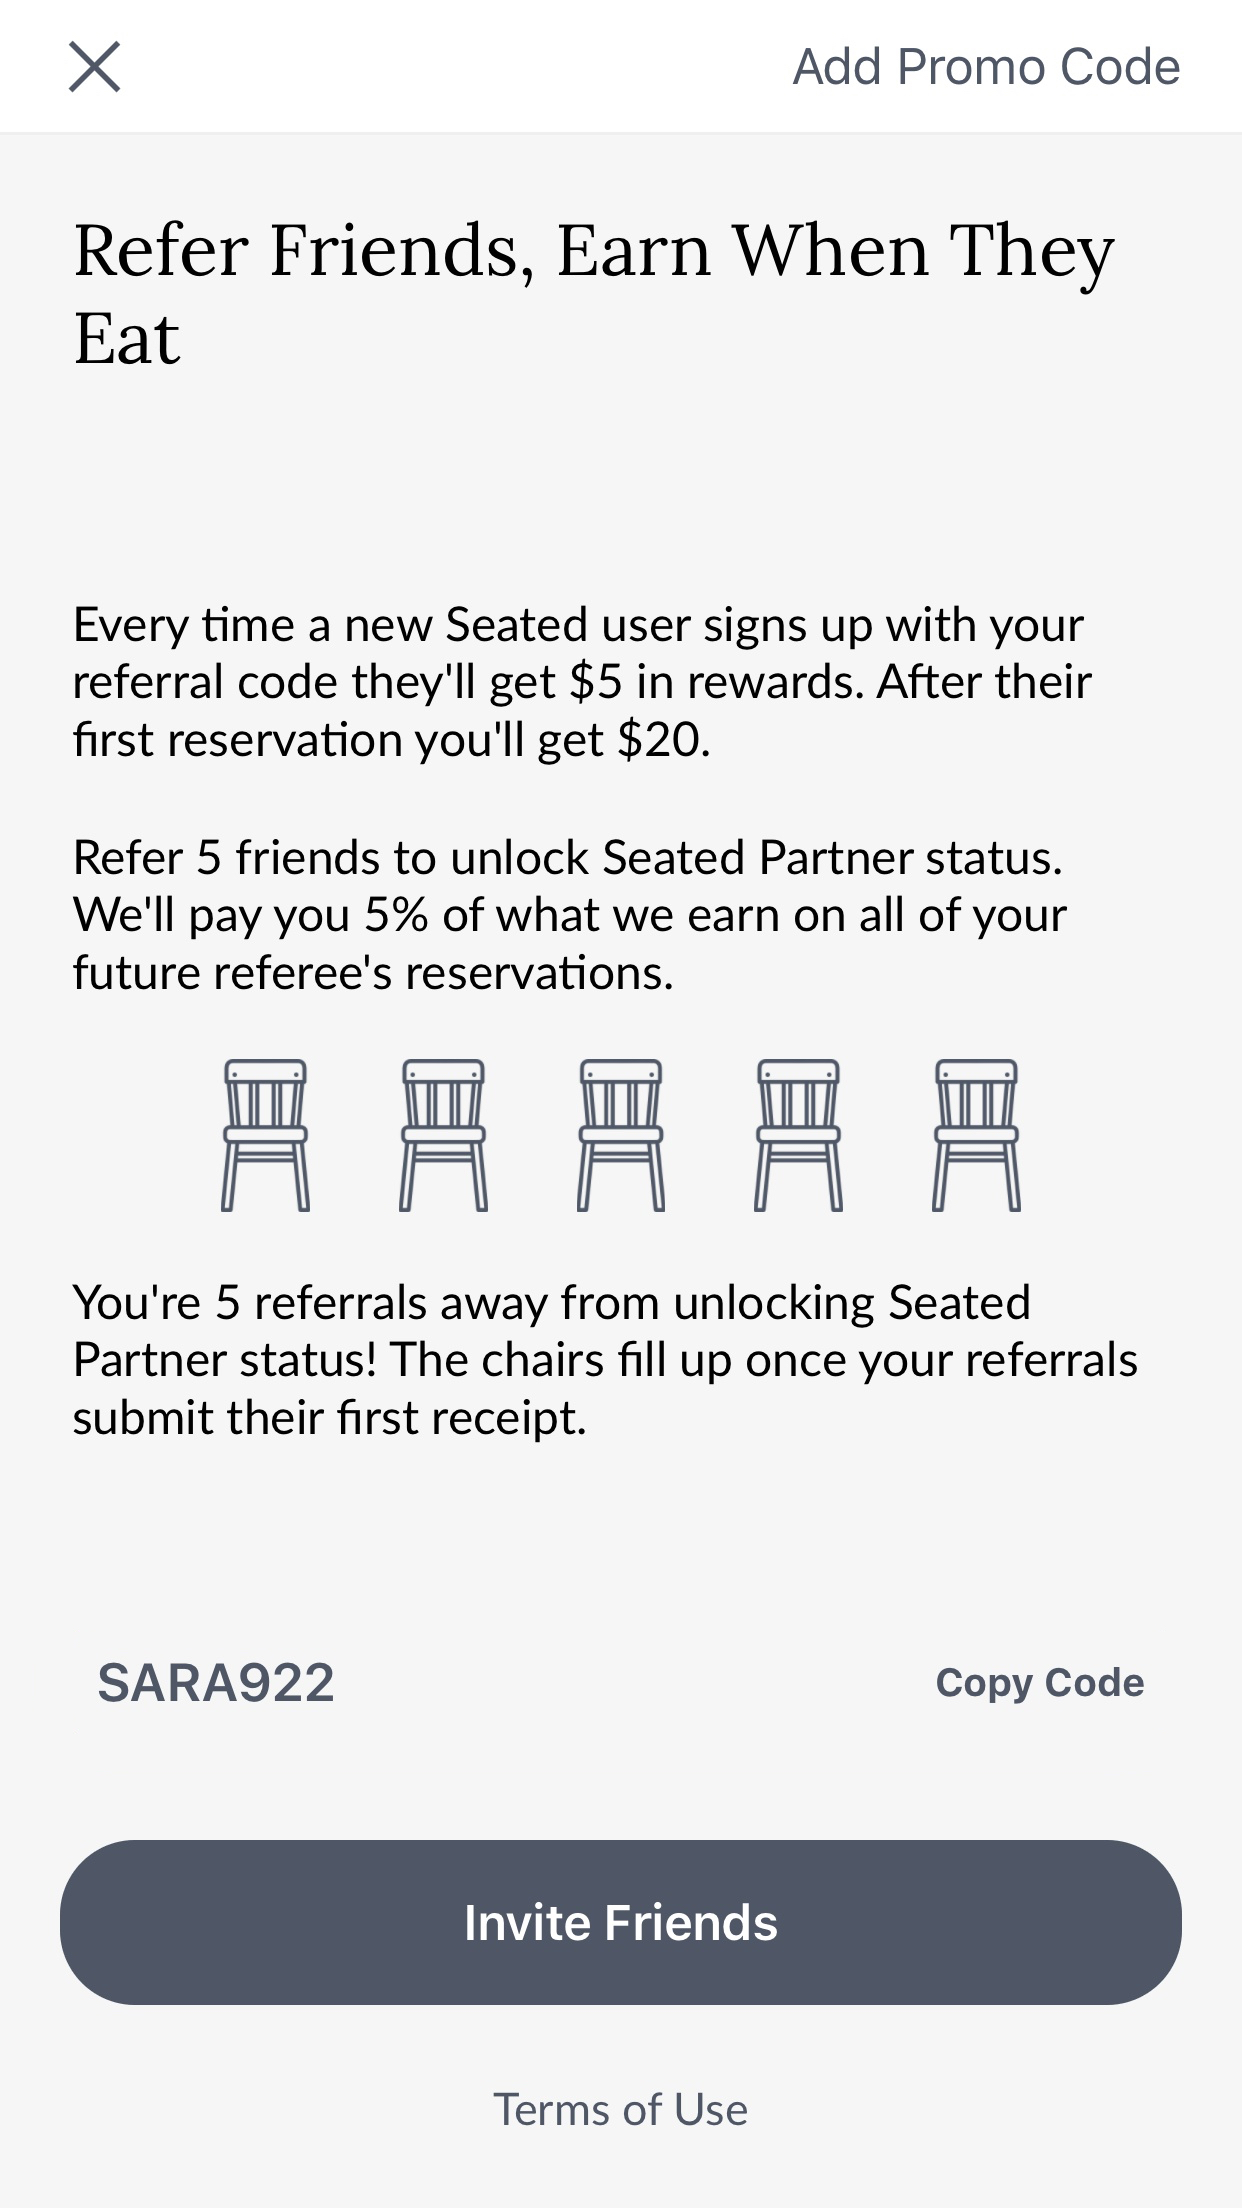Icon: (70, 39, 121, 94)
Image: (754, 1059, 845, 1215), (931, 1059, 1022, 1215), (221, 1059, 312, 1213), (399, 1059, 490, 1213), (576, 1059, 666, 1213)
Text: (73, 1283, 1137, 1444), (73, 605, 1093, 767), (77, 220, 1118, 365), (73, 839, 1068, 990), (793, 47, 1181, 86), (99, 1661, 335, 1703), (493, 2091, 748, 2126), (936, 1667, 1145, 1705)
TextButton: (61, 1839, 1183, 2006)
